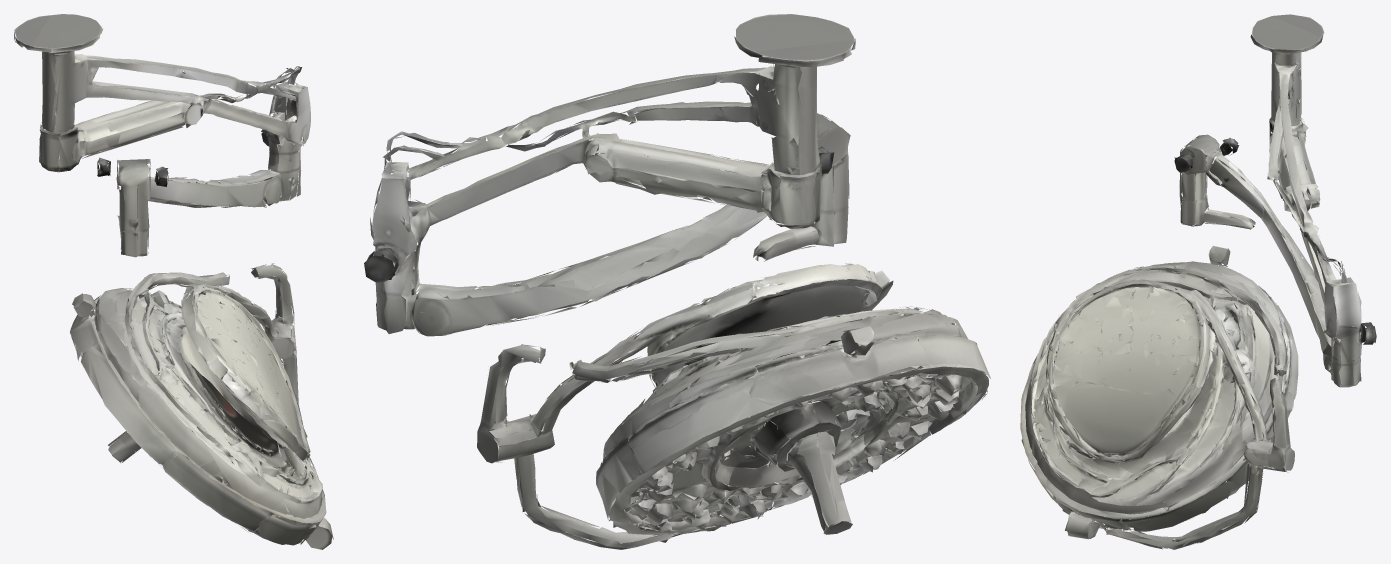
File: scialytique.glb
3 views of the same model, side by side, from view 1: azimuth 30°, elevation 25°; view 2: azimuth 150°, elevation 25°; view 3: azimuth 270°, elevation 25° (orthographic). The views are drawn at different scales.
Parts seen in each view (by area): view 1: geometry_0; view 2: geometry_0; view 3: geometry_0.
Part boxes in pixels (x1=…): geometry_0: x1=14, y1=14, x2=333, y2=549; geometry_0: x1=364, y1=14, x2=990, y2=549; geometry_0: x1=1020, y1=14, x2=1376, y2=549.
Size of the model in its own units: 0.9355 by 1.3 by 0.9606.
1 material, 1 textured.
